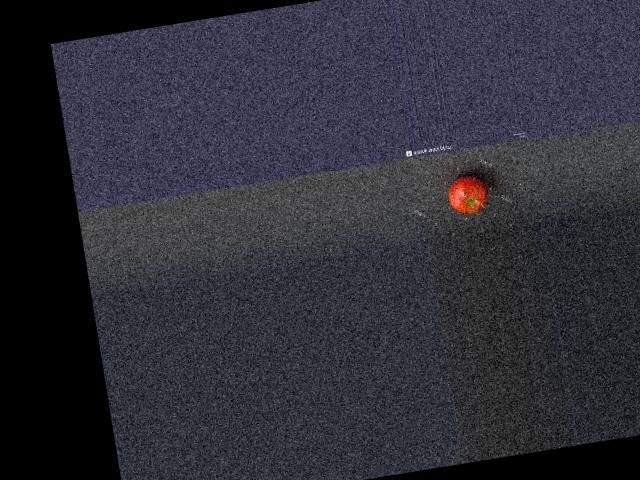tomato: (446, 174, 490, 215)
